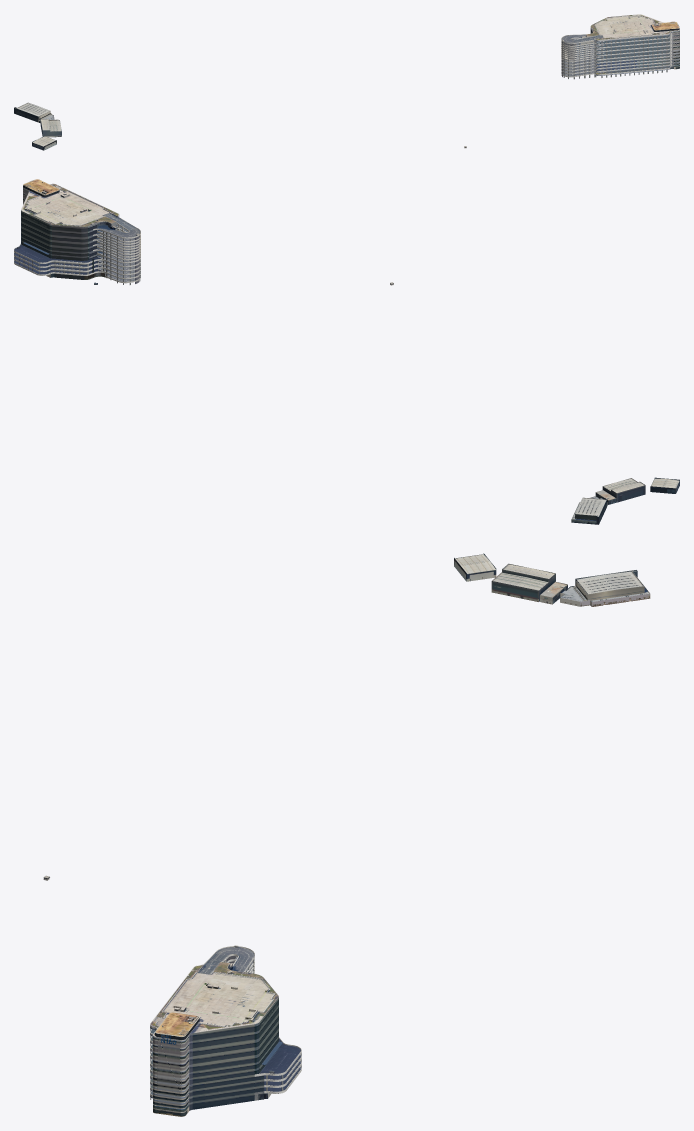
File: surrounding_buildings_05.glb
The picture shows the model from 3 angles, top to bottom: view 1: azimuth 30°, elevation 25°; view 2: azimuth 150°, elevation 25°; view 3: azimuth 270°, elevation 25°; orthographic projection. The views are drawn at different scales.
Parts seen in each view (by area): view 1: B106301713601063A0.001, B106321714602063A0.001, B091261765501063A0.001, B091141754601063A0.001, B090561747801063A0.001; view 2: B106301713601063A0.001, B106321714602063A0.001, B091261765501063A0.001, B091141754601063A0.001; view 3: B106301713601063A0.001, B106321714602063A0.001, B091261765501063A0.001, B091141754601063A0.001, B090561747801063A0.001.
Part boxes in pixels (left/top/right/bottom): B106301713601063A0.001: left=561, top=14, right=679, bottom=64; B106321714602063A0.001: left=561, top=56, right=679, bottom=79; B091261765501063A0.001: left=14, top=102, right=54, bottom=123; B091141754601063A0.001: left=40, top=119, right=61, bottom=137; B090561747801063A0.001: left=32, top=136, right=56, bottom=150; B106301713601063A0.001: left=21, top=179, right=140, bottom=265; B106321714602063A0.001: left=14, top=243, right=140, bottom=284; B091261765501063A0.001: left=571, top=496, right=607, bottom=524; B091141754601063A0.001: left=602, top=478, right=645, bottom=502; B106301713601063A0.001: left=150, top=945, right=282, bottom=1092; B106321714602063A0.001: left=150, top=1037, right=301, bottom=1116; B091261765501063A0.001: left=560, top=570, right=650, bottom=606; B091141754601063A0.001: left=491, top=563, right=555, bottom=601; B090561747801063A0.001: left=454, top=553, right=496, bottom=581.
Bounding box in the file's own units: 1745 × 122 × 805.
Materials: 18 (17 with a texture image).
